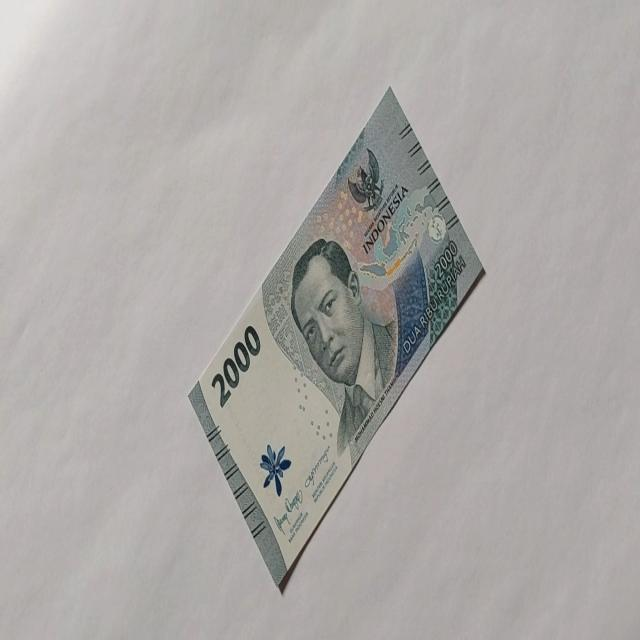dua ribu rupiah: (187, 84, 486, 592), (289, 236, 399, 456), (210, 323, 261, 409)
